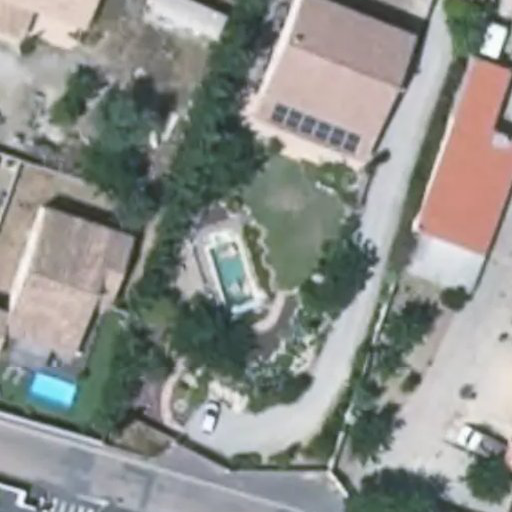pool: (214, 231, 298, 252)
